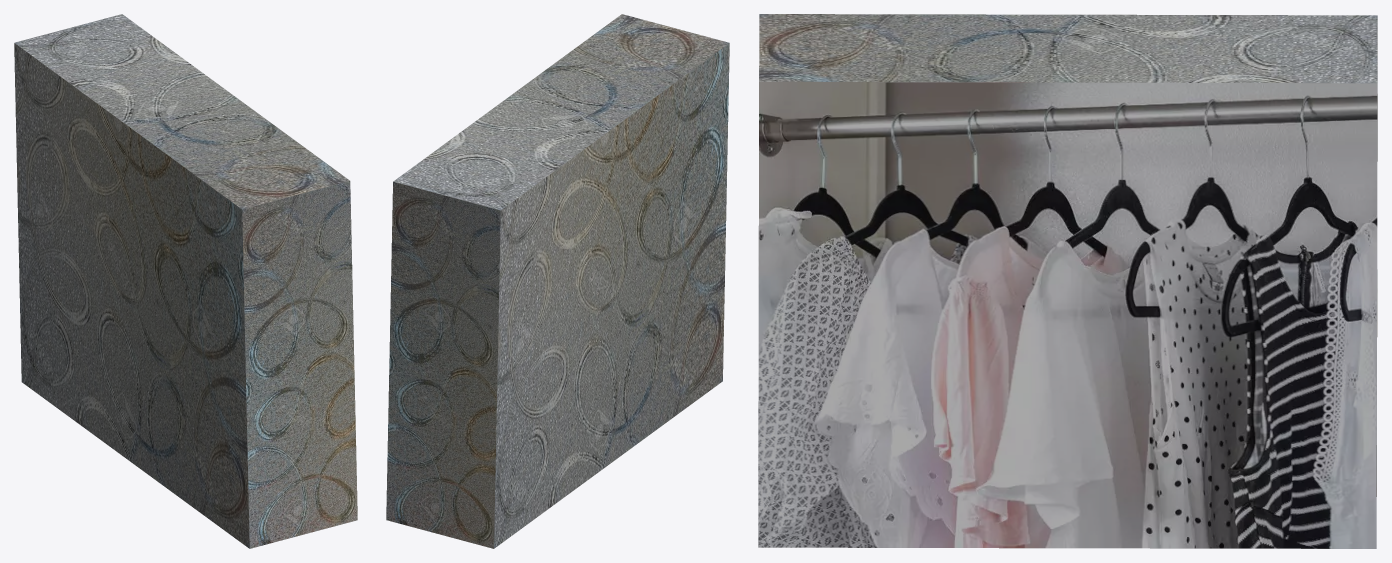
The model's file is clothshelf4.glb.
3 views of the same model, side by side, from view 1: azimuth 30°, elevation 25°; view 2: azimuth 150°, elevation 25°; view 3: azimuth 270°, elevation 25° (orthographic). The views are drawn at different scales.
Parts seen in each view (by area): view 1: Cube; view 2: Cube; view 3: Cube.
Boxes of the visible parts, x1,y1,x2,y2 form: Cube: (14, 14, 357, 548); Cube: (386, 14, 729, 548); Cube: (758, 14, 1377, 548).
Bounding box in the file's own units: 0.7407 × 2.1 × 2.54.
Materials: 2 (2 with a texture image).
